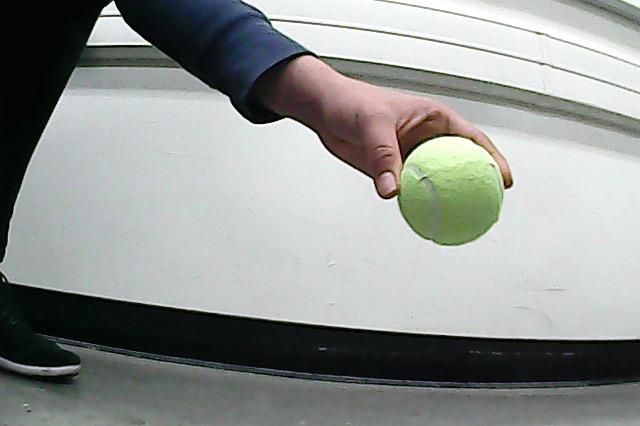ball: (400, 137, 504, 246)
